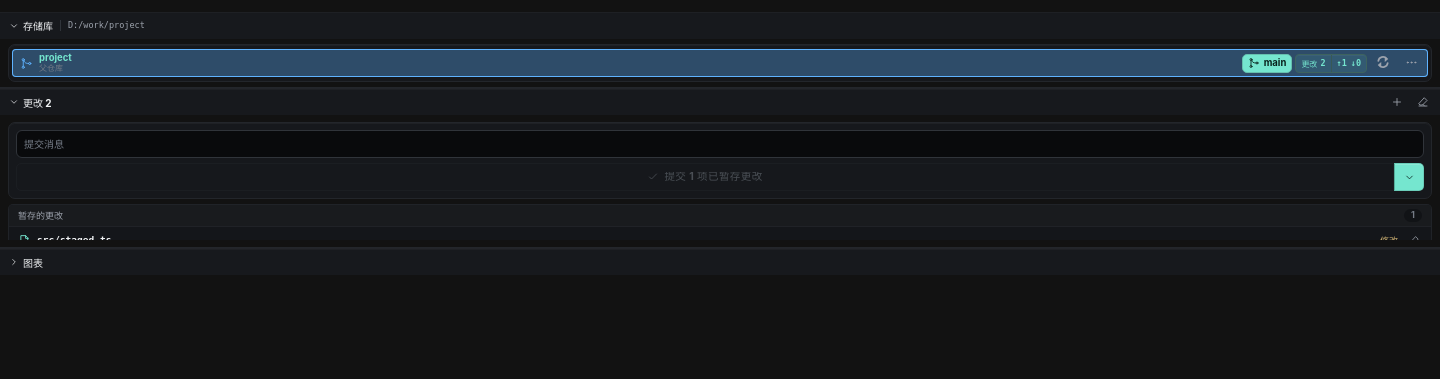
Scenario: GitPane commit graph › shows accessible portaled commit details on hover and keyboard focus without loading files
This screenshot has width=1440, height=379.
Expected: the text "project" is shown, [39,52,72,63]
Click the button "图表". click: click(14, 262)
box: [5,252,1435,272]
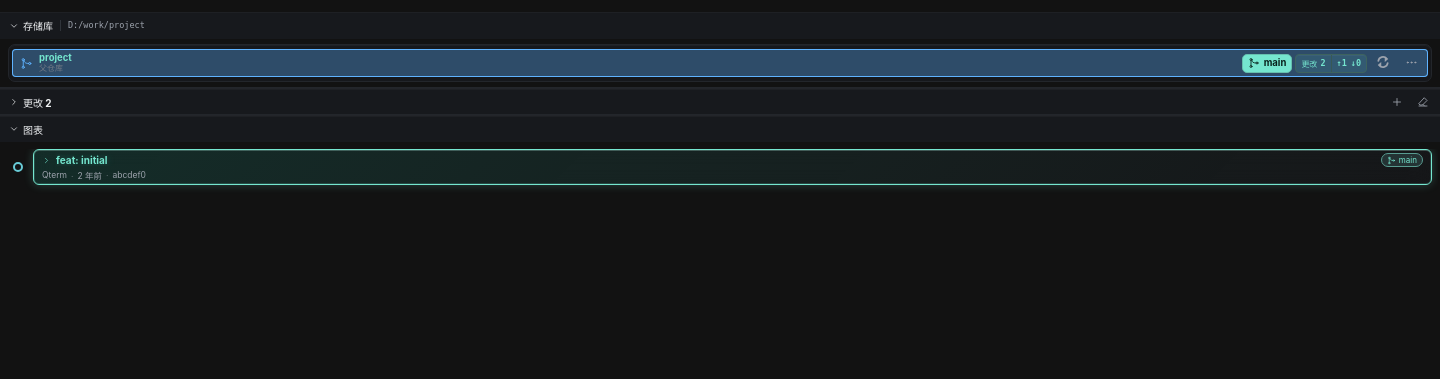
Hover over the button "feat: initial main Qterm 2 年前 abcdef0" at (720, 167), box [8,149,1432,185]
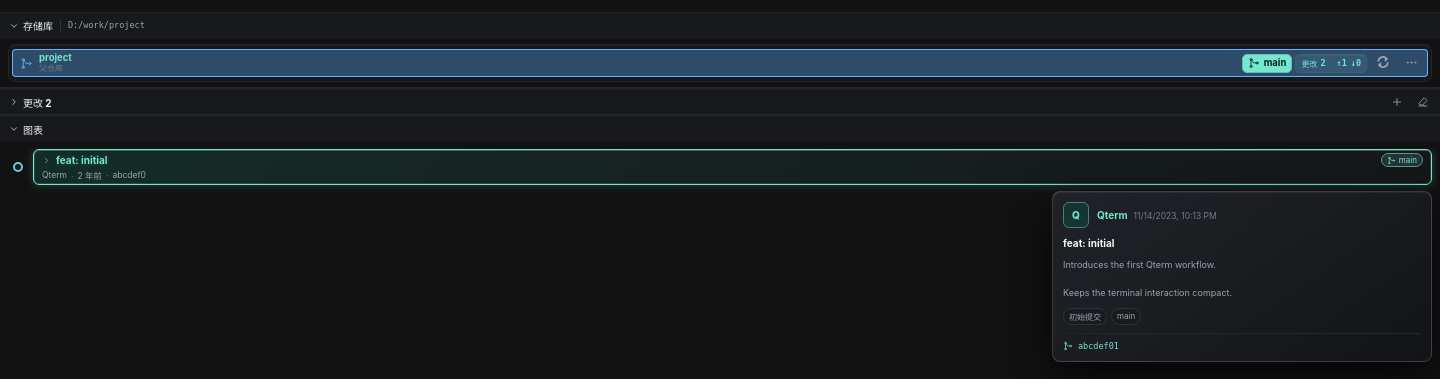
Now the tooltip shows "Qterm", box [1097,209,1128,221]
Now the tooltip shows "feat: initial", box [1063,237,1114,249]
Now the tooltip shows "Introduces the first Qterm workflow.", box [1063,259,1232,298]
Move the pointer off the button "feat: initial main Qterm 2 年前 abcdef0", box [8,149,1432,185]
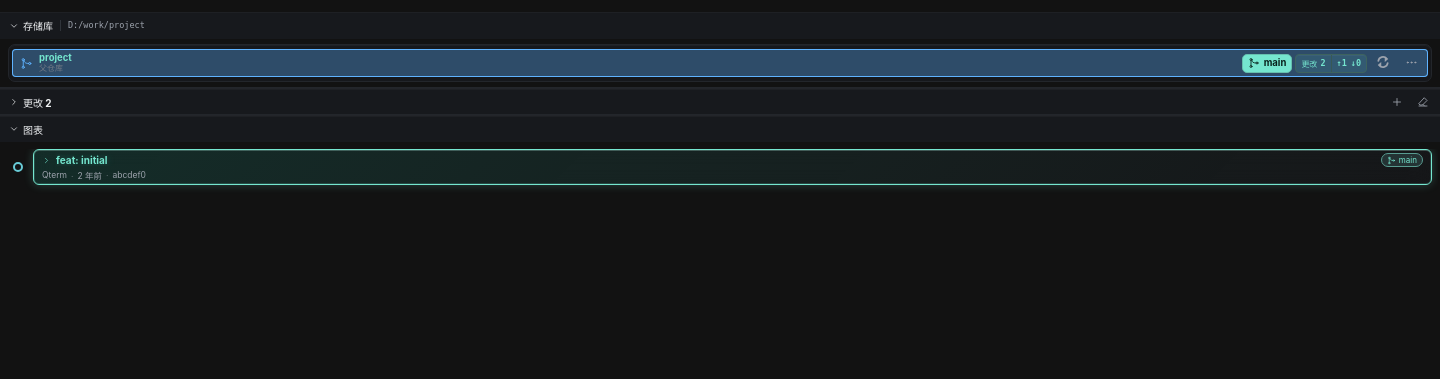
Now the tooltip "Q Qterm 11/14/2023, 10:13 PM feat: initial Introduces the first Qterm workflow." is gone
Focus the button "feat: initial main Qterm 2 年前 abcdef0". click: (720, 167)
box: [8,149,1432,185]
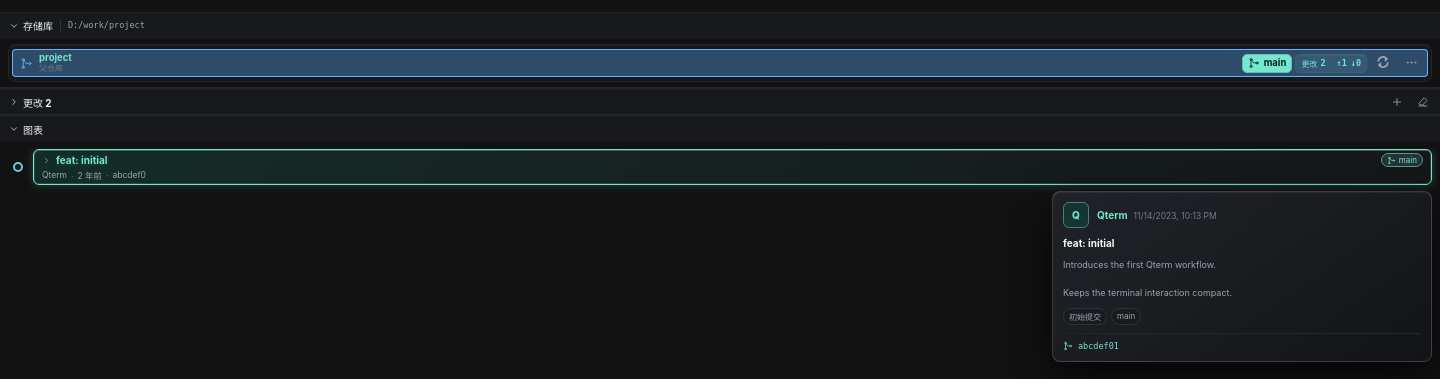
Now the tooltip is shown, box [1052,191,1432,362]
Leave the button "feat: initial main Qterm 2 年前 abcdef0", box [8,149,1432,185]
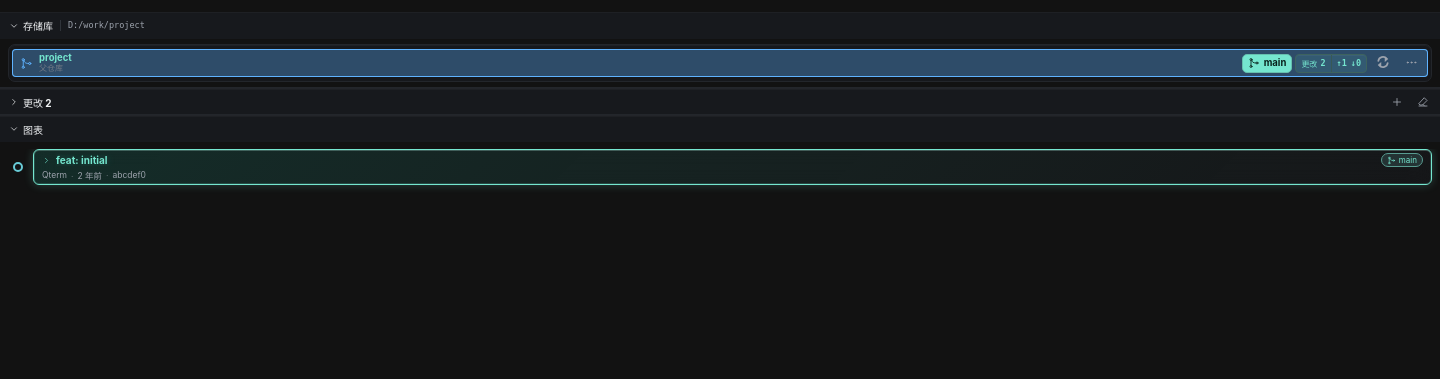
Now the tooltip "Q Qterm 11/14/2023, 10:13 PM feat: initial Introduces the first Qterm workflow." is gone
